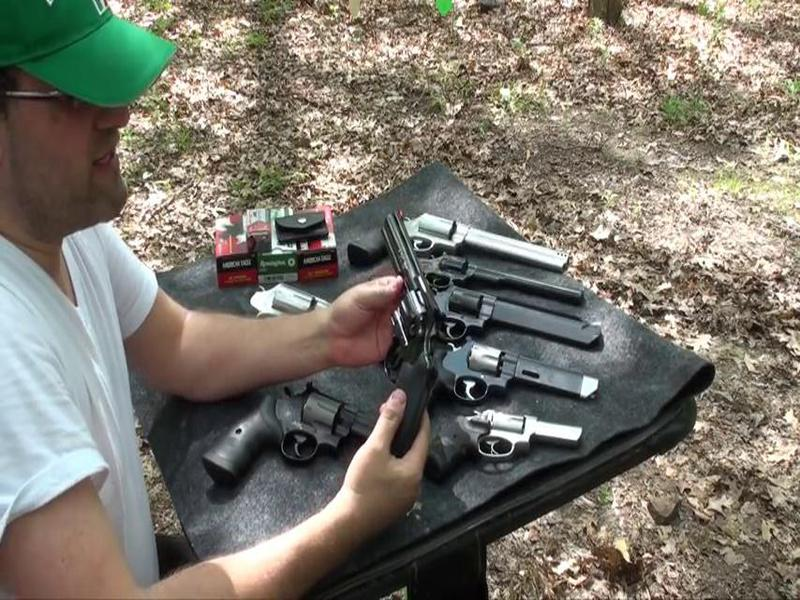Revolver: (363, 194, 457, 463)
